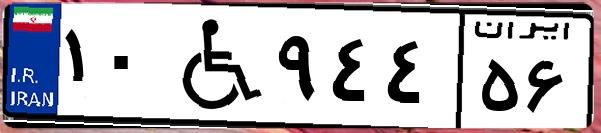0: (110, 28, 158, 98)
1: (57, 26, 110, 100)
4: (385, 28, 445, 110), (330, 28, 385, 110)
5: (475, 38, 525, 113)
6: (525, 38, 570, 115)
9: (270, 28, 330, 110)
ژ (معلولین و جانبازان): (158, 12, 270, 120)
